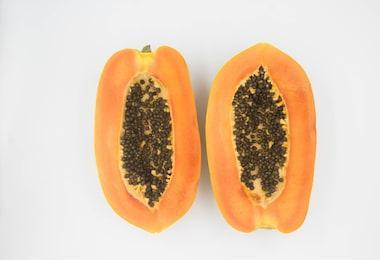papaya: (205, 43, 318, 233), (96, 45, 201, 235)
